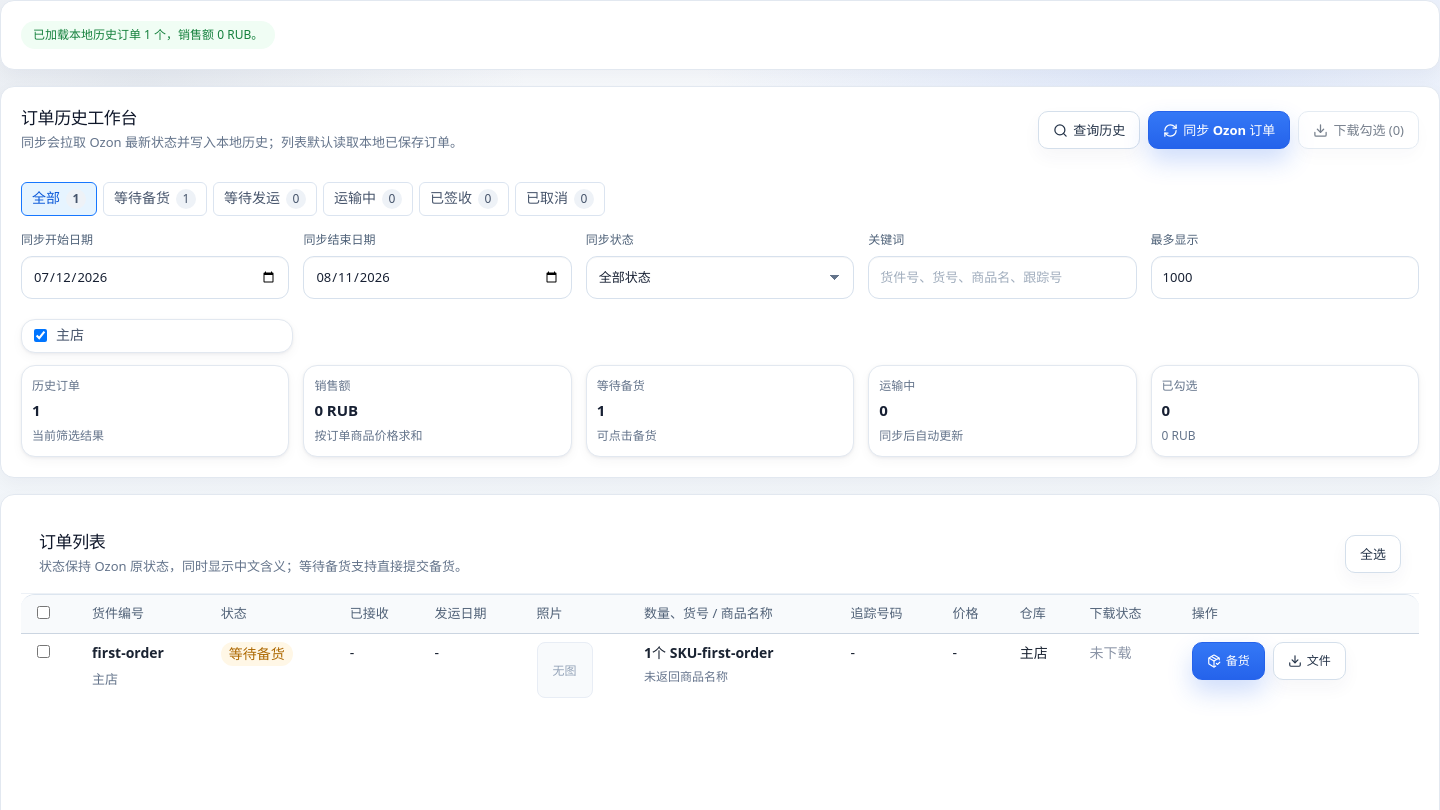
Test: OrdersPage › clears selected rows after a successful reload
Click the checkbox in the row of "SKU-first-order": (44, 652) [37,645,50,658]
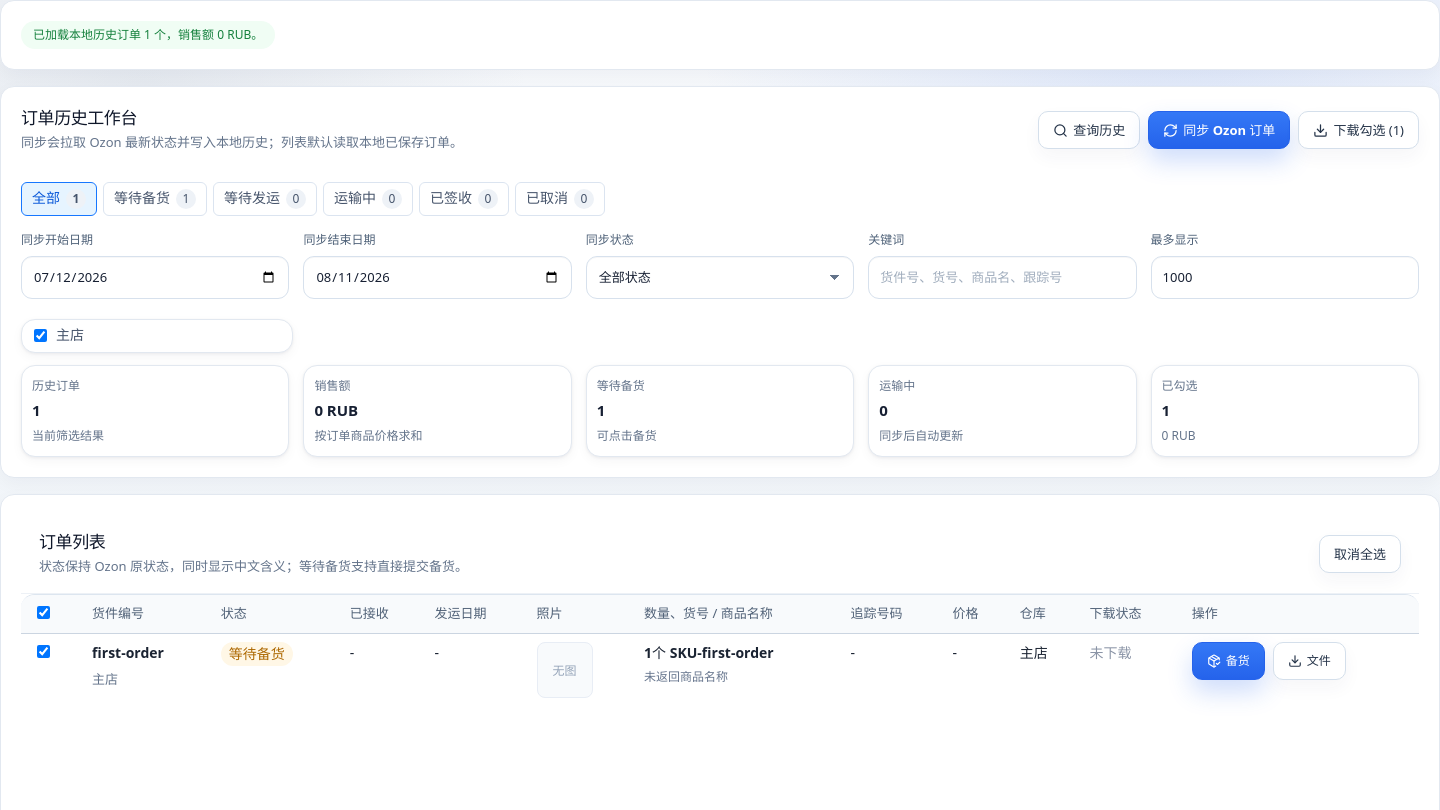
Expected: the button "下载勾选 (1)" is shown, [1298,111,1419,149]
Click the button "查询历史": (1089, 130) [1038,111,1140,149]
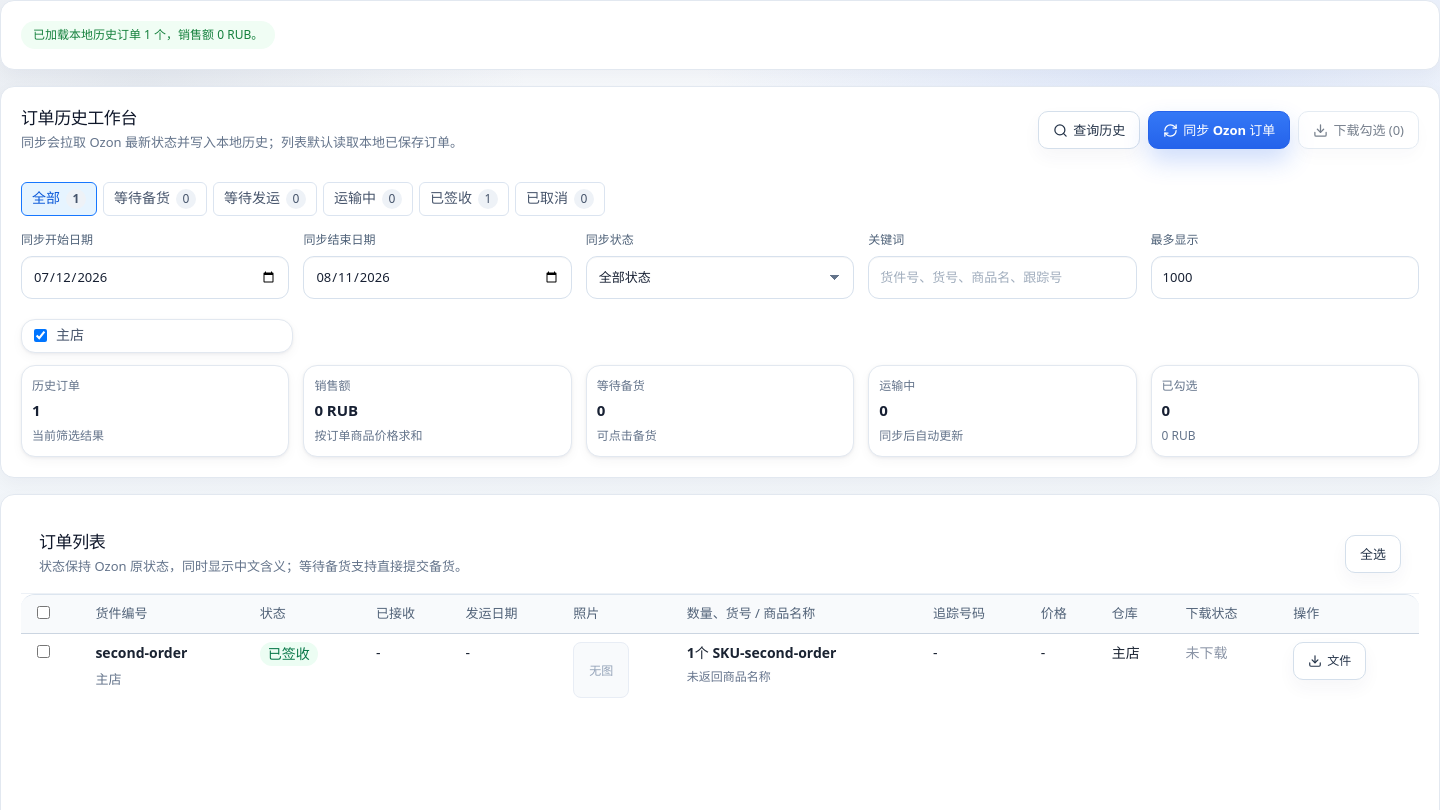
Expected: the text "second-order" is shown, [95,643,187,662]
Expected: the button "下载勾选 (0)" is shown, [1298,111,1419,149]
